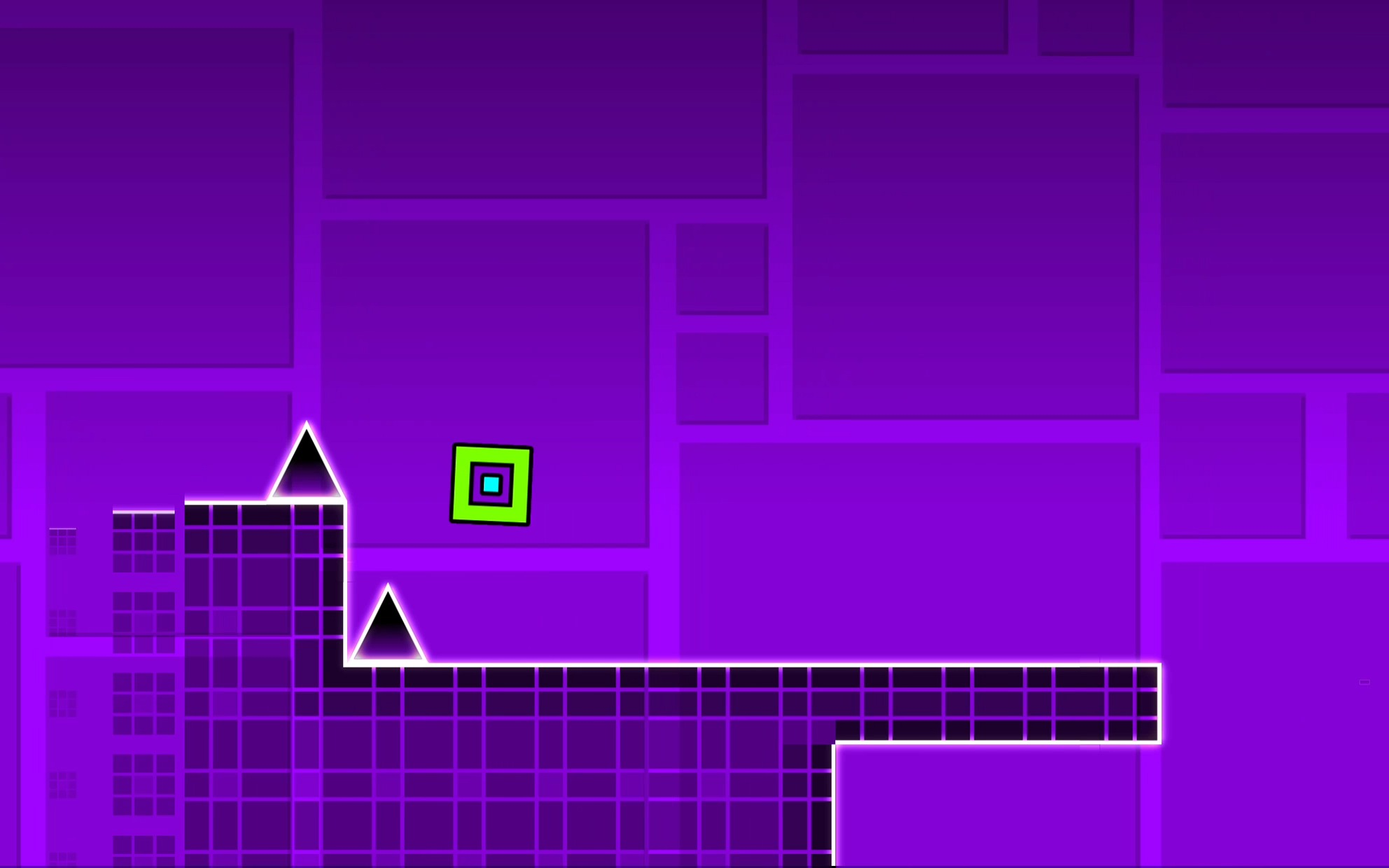Block2: (340, 664, 834, 868), (104, 504, 343, 868), (831, 663, 1162, 741)
Player: (450, 444, 532, 524)
Spike: (267, 421, 347, 500), (349, 584, 426, 664)
